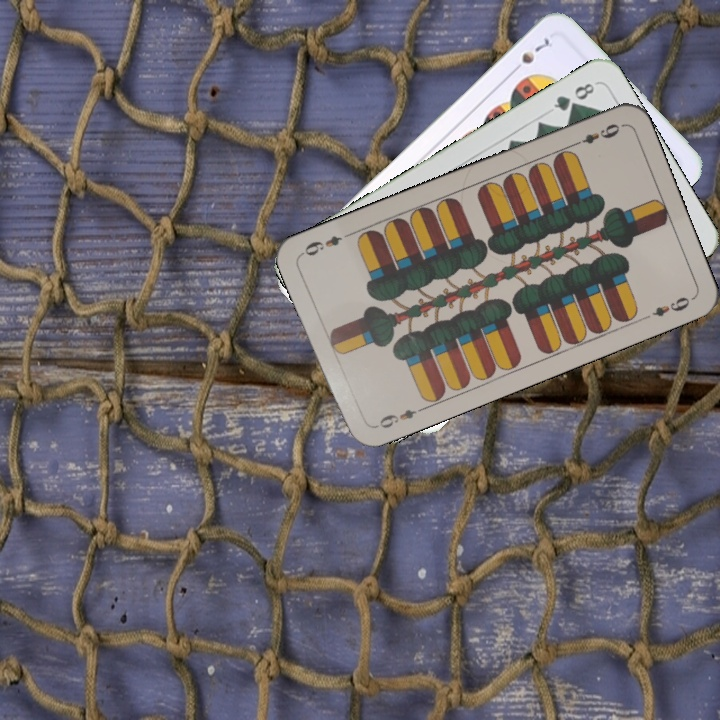E9: (368, 402, 426, 432), (568, 119, 623, 149)
G8: (549, 78, 597, 114)
S7: (507, 34, 553, 77)
